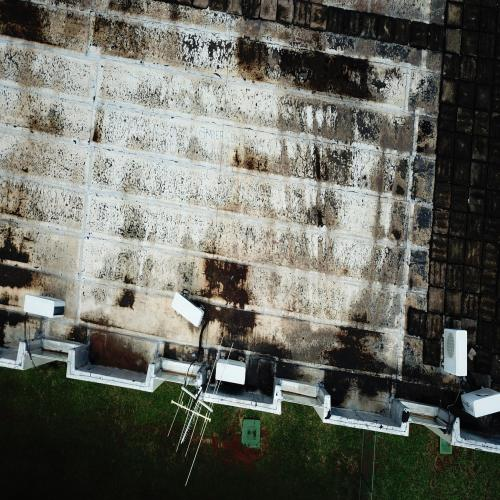conde: (168, 291, 207, 334), (441, 328, 471, 381), (459, 384, 500, 421), (21, 292, 67, 323), (214, 356, 250, 387)
